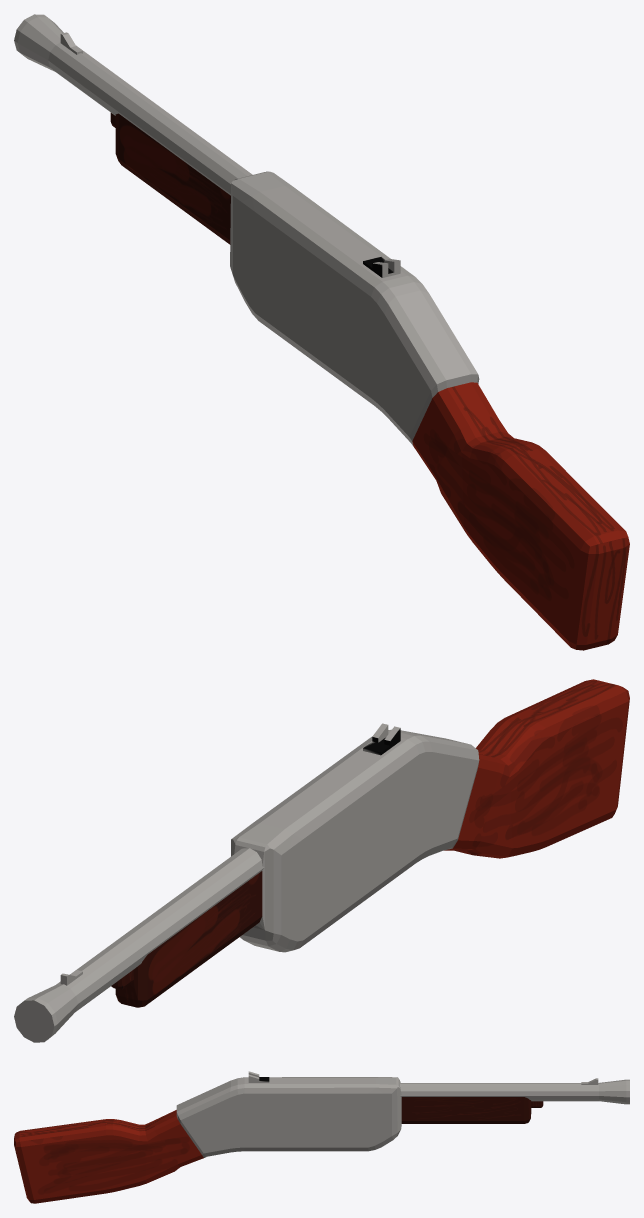
File: Rifle2.glb
The picture shows the model from 3 angles, top to bottom: view 1: azimuth 30°, elevation 25°; view 2: azimuth 150°, elevation 25°; view 3: azimuth 270°, elevation 25°; orthographic projection. The views are drawn at different scales.
Visible parts, largest first — view 1: metal1, wood1, barrel, wood2; view 2: metal1, wood1, barrel, wood2, crosshair1; view 3: metal1, wood1, barrel, wood2.
Boxes of the visible parts, left/top/right/bottom form: metal1: left=230, top=171, right=479, bottom=445; wood1: left=412, top=382, right=629, bottom=650; barrel: left=14, top=14, right=252, bottom=195; wood2: left=110, top=113, right=230, bottom=244; metal1: left=231, top=729, right=479, bottom=952; wood1: left=444, top=679, right=629, bottom=858; barrel: left=14, top=848, right=264, bottom=1042; wood2: left=111, top=871, right=262, bottom=1007; crosshair1: left=363, top=723, right=400, bottom=755; metal1: left=176, top=1077, right=401, bottom=1157; wood1: left=14, top=1110, right=203, bottom=1203; barrel: left=400, top=1079, right=629, bottom=1104; wood2: left=401, top=1097, right=543, bottom=1123.
Size of the model in its own units: 0.0995 by 0.467 by 2.06.
Materials: 5 (5 with a texture image).
